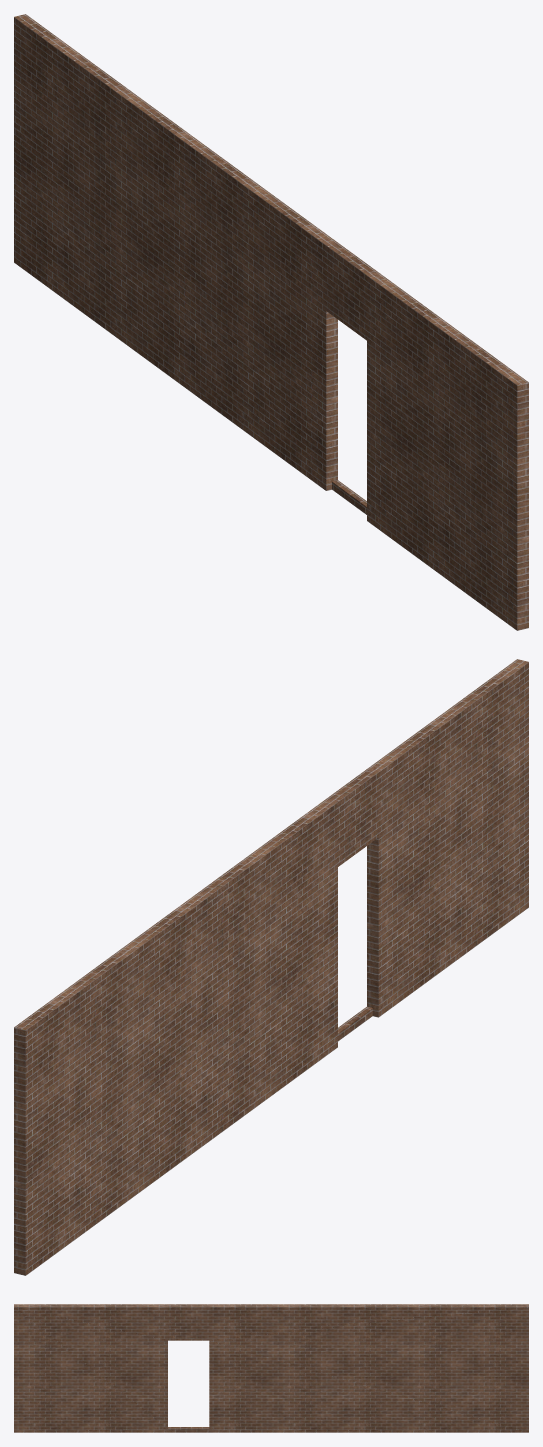
Rendered from Joglo_part_22.fbx.
3 renders of one model, top to bottom at view 1: azimuth 30°, elevation 25°; view 2: azimuth 150°, elevation 25°; view 3: azimuth 270°, elevation 25°, orthographic. The views are drawn at different scales.
Visible parts, largest first — view 1: Mesh117_Brick___Brown_0.001; view 2: Mesh117_Brick___Brown_0.001; view 3: Mesh117_Brick___Brown_0.001.
Boxes of the visible parts, bbox=[...] form: Mesh117_Brick___Brown_0.001: bbox=[14, 14, 528, 630]; Mesh117_Brick___Brown_0.001: bbox=[14, 659, 528, 1275]; Mesh117_Brick___Brown_0.001: bbox=[14, 1304, 528, 1432].
Bounding box in the file's own units: 5.91 × 118 × 439.
